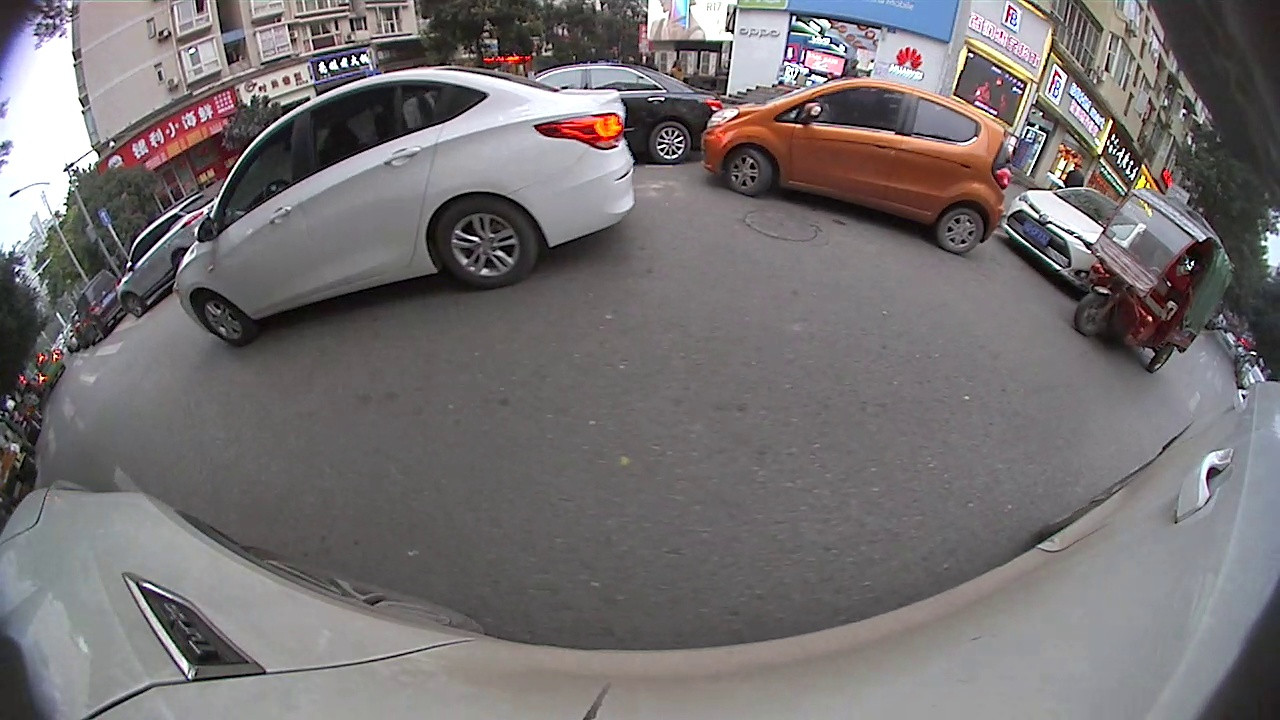car: (172, 61, 638, 353), (697, 75, 1021, 258), (523, 63, 725, 167), (115, 186, 233, 319), (999, 181, 1123, 296)
front: (189, 292, 258, 348), (729, 144, 774, 194), (1071, 288, 1114, 334)
rear: (439, 202, 534, 286), (936, 206, 986, 256), (650, 125, 695, 162)
rider: (1071, 184, 1236, 378)
